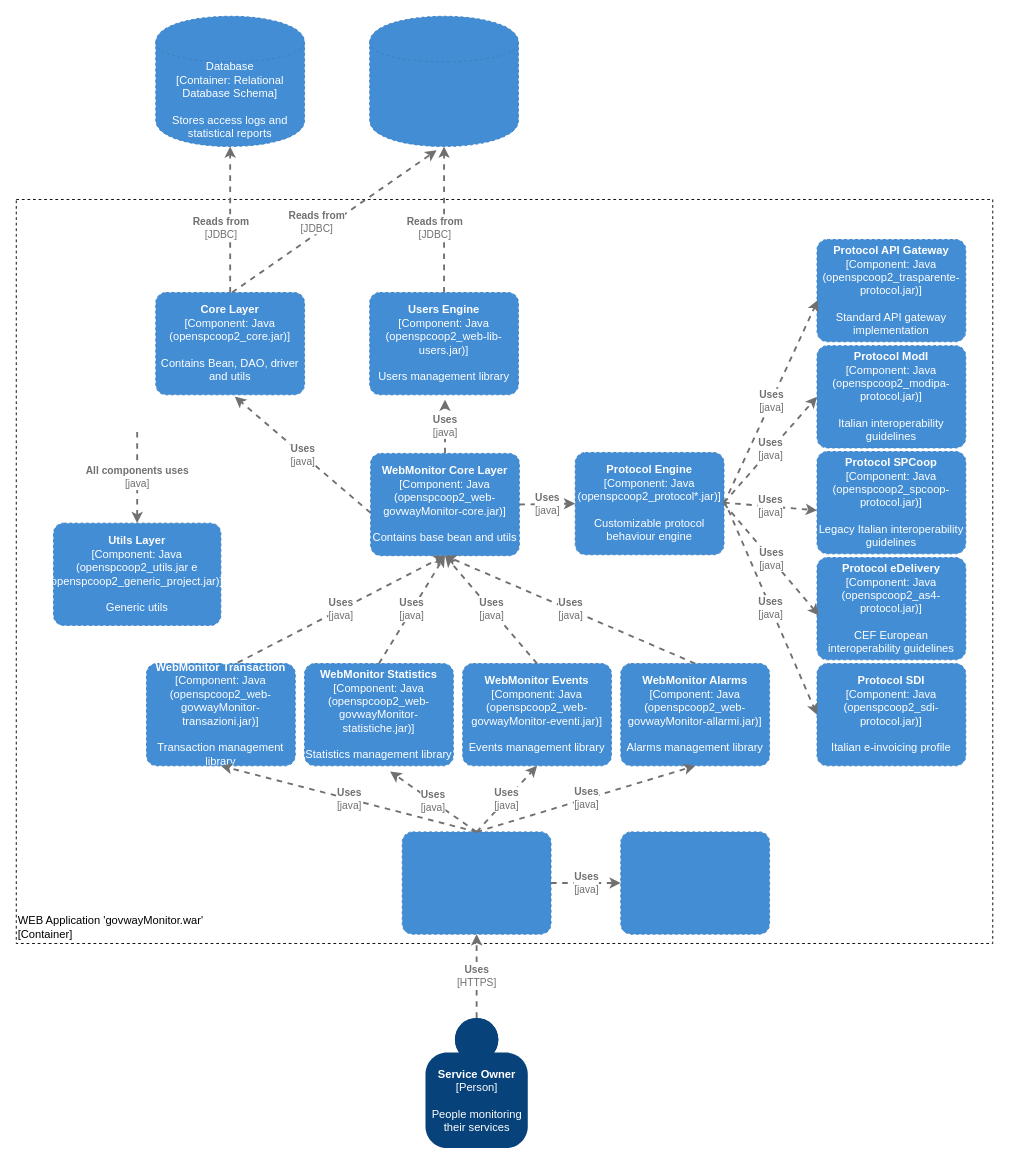
Some shapes in this 1009 by 1164 pixel diagram are drawn without their labels. Here are the shapes that lost their labels. From the top down, the centre of each, then its label:
At (443,80): "Database [Container: Relational Database Schema] Stores API configurations".
At (476,882): "WebMonitor [Component: Java/JSF Richfaces] JSF Pages".
At (695,882): "JS lib [Component: Javascript] JS core library".
